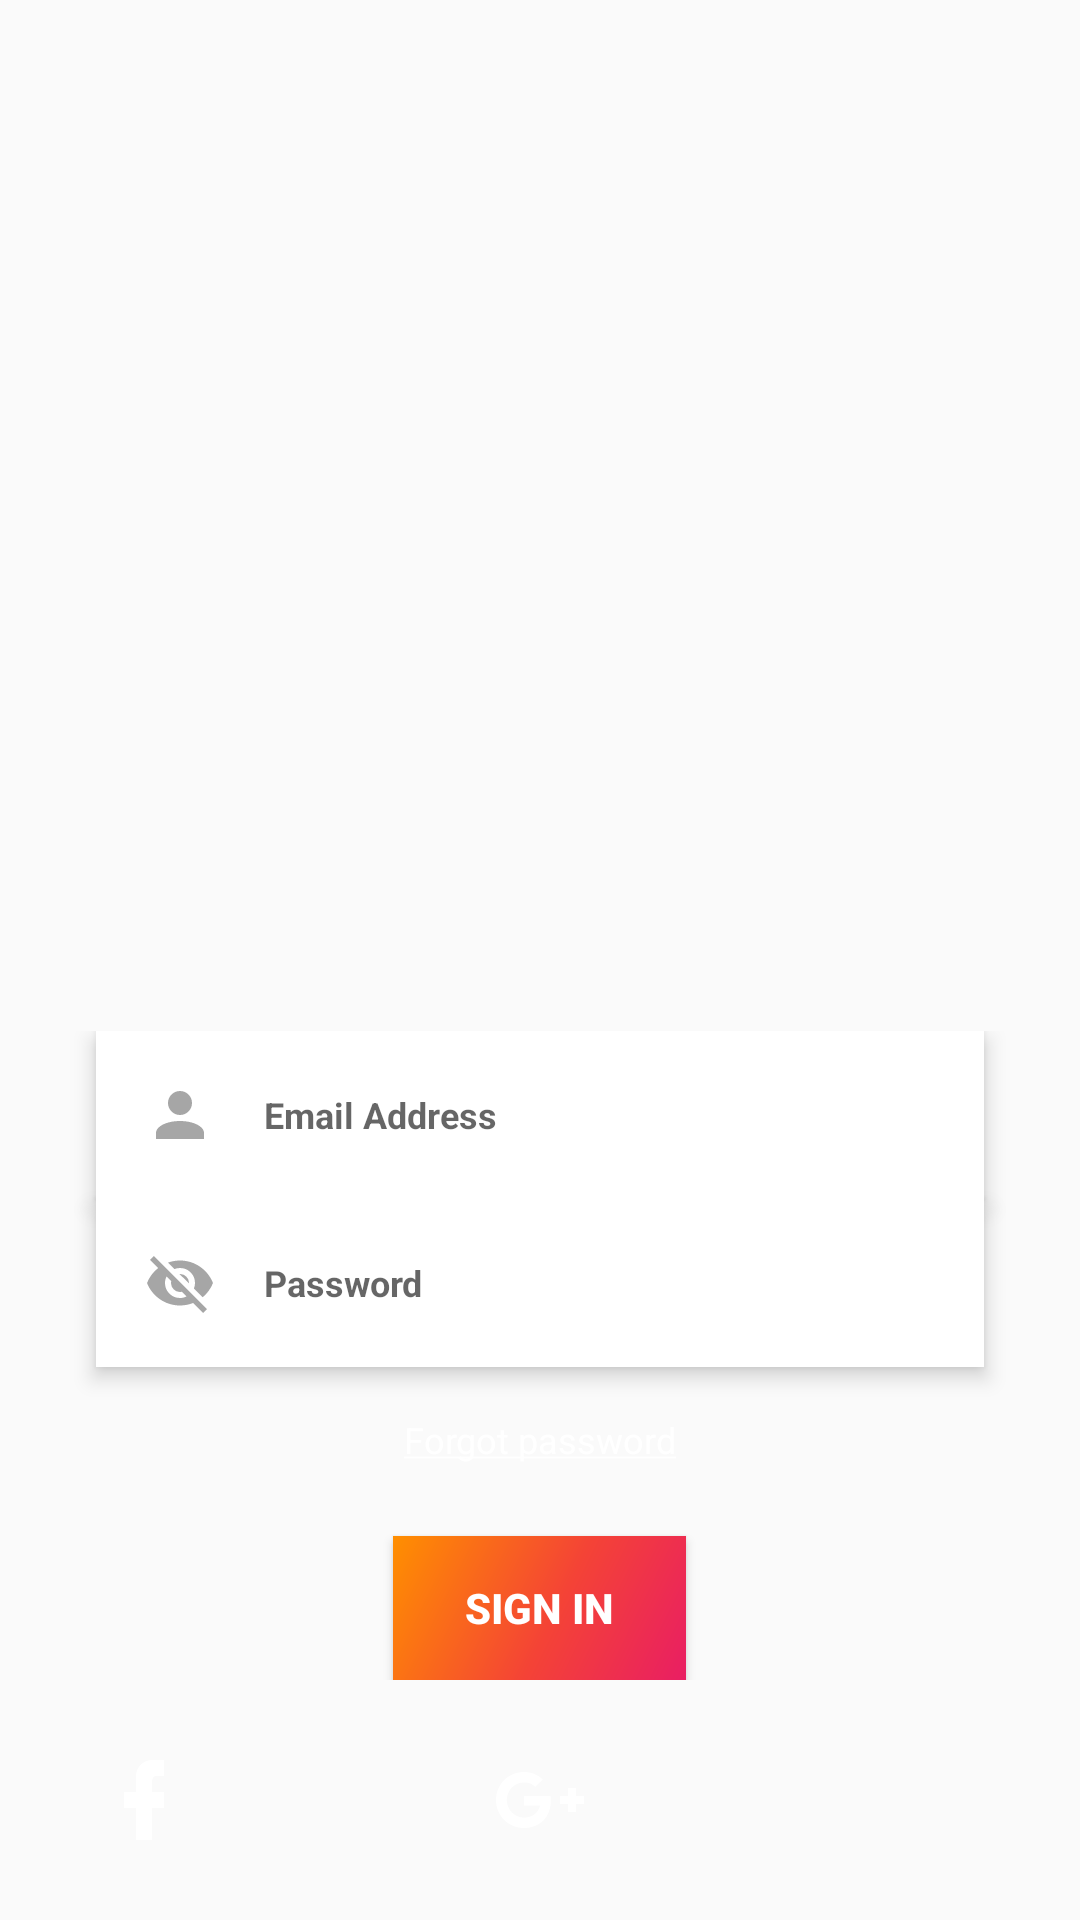

Screen size 1080 x 1920. Icon name, then its center in pixels as (x=x, y=y):
eye slash for login: (x=180, y=1284)
user for login: (x=180, y=1115)
